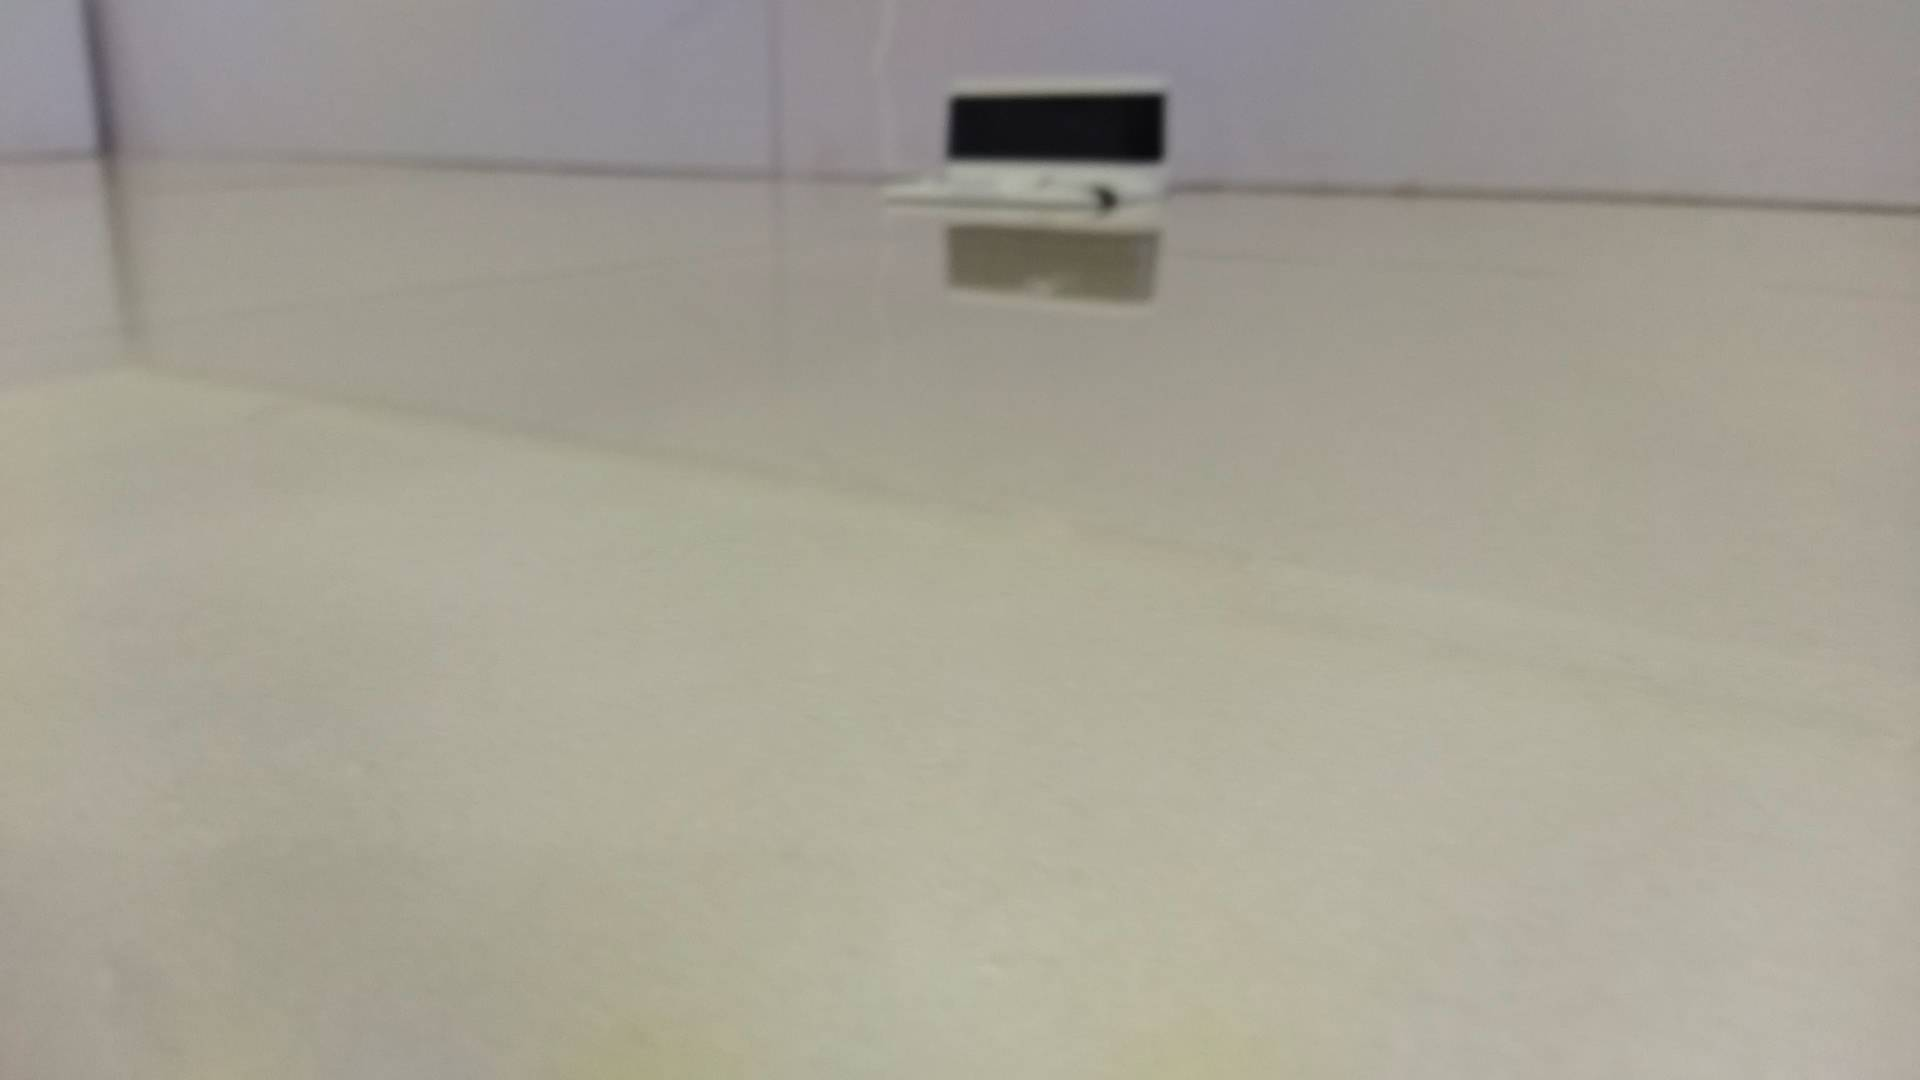recharge seat: (876, 75, 1176, 214)
